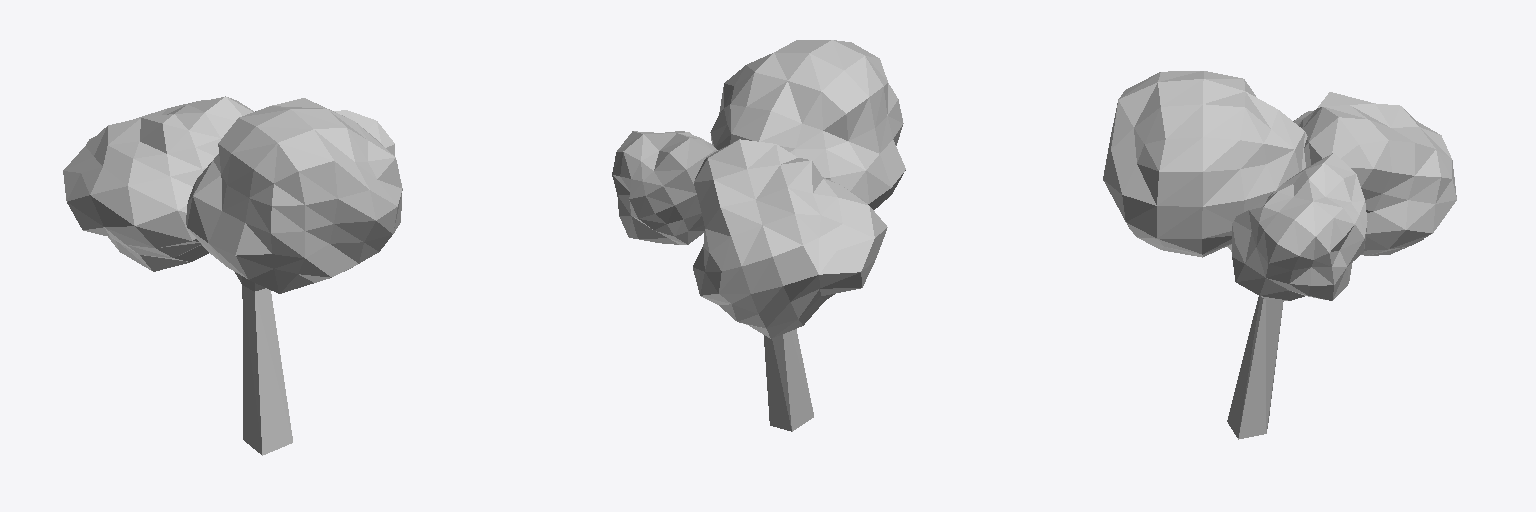
The model's file is tree.obj.
3 views of the same model, side by side, from view 1: azimuth 30°, elevation 25°; view 2: azimuth 150°, elevation 25°; view 3: azimuth 270°, elevation 25° (orthographic).
Visible parts, largest first — view 1: Cube.003_Cube.004; view 2: Cube.003_Cube.004; view 3: Cube.003_Cube.004.
Part boxes in pixels (bbox=[...]): Cube.003_Cube.004: bbox=[63, 96, 402, 455]; Cube.003_Cube.004: bbox=[612, 40, 905, 431]; Cube.003_Cube.004: bbox=[1103, 71, 1456, 439].
Size of the model in its own units: 5.07 by 6.02 by 5.5.